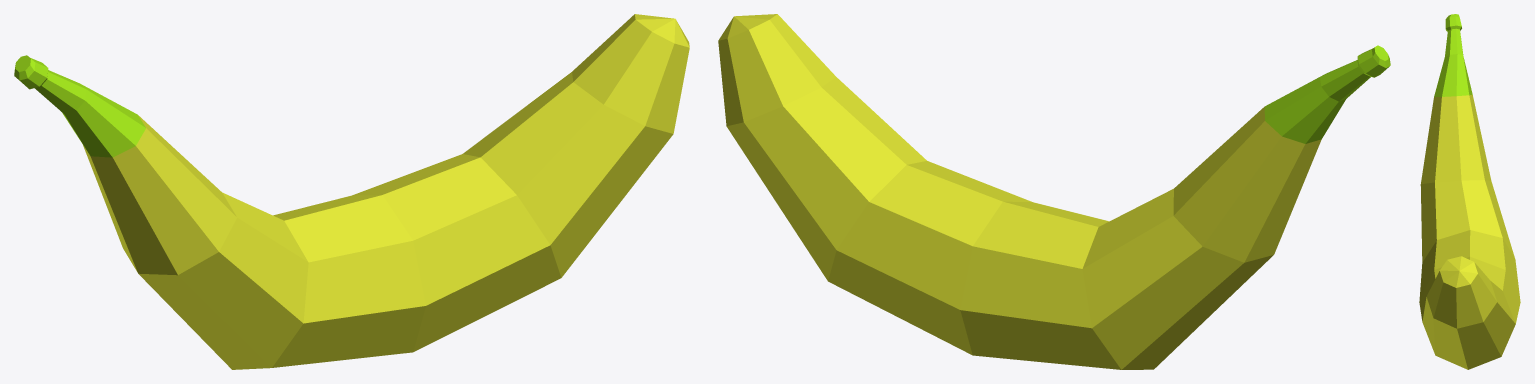
The model's file is banana.fbx.
The picture shows the model from 3 angles, left to right: view 1: azimuth 30°, elevation 25°; view 2: azimuth 150°, elevation 25°; view 3: azimuth 270°, elevation 25°; orthographic projection. The views are drawn at different scales.
Visible parts, largest first — view 1: banana; view 2: banana; view 3: banana.
Part boxes in pixels (bbox=[...]): banana: bbox=[14, 14, 689, 369]; banana: bbox=[718, 14, 1390, 369]; banana: bbox=[1419, 14, 1520, 369].
Size of the model in its own units: 894 by 502 by 200.
